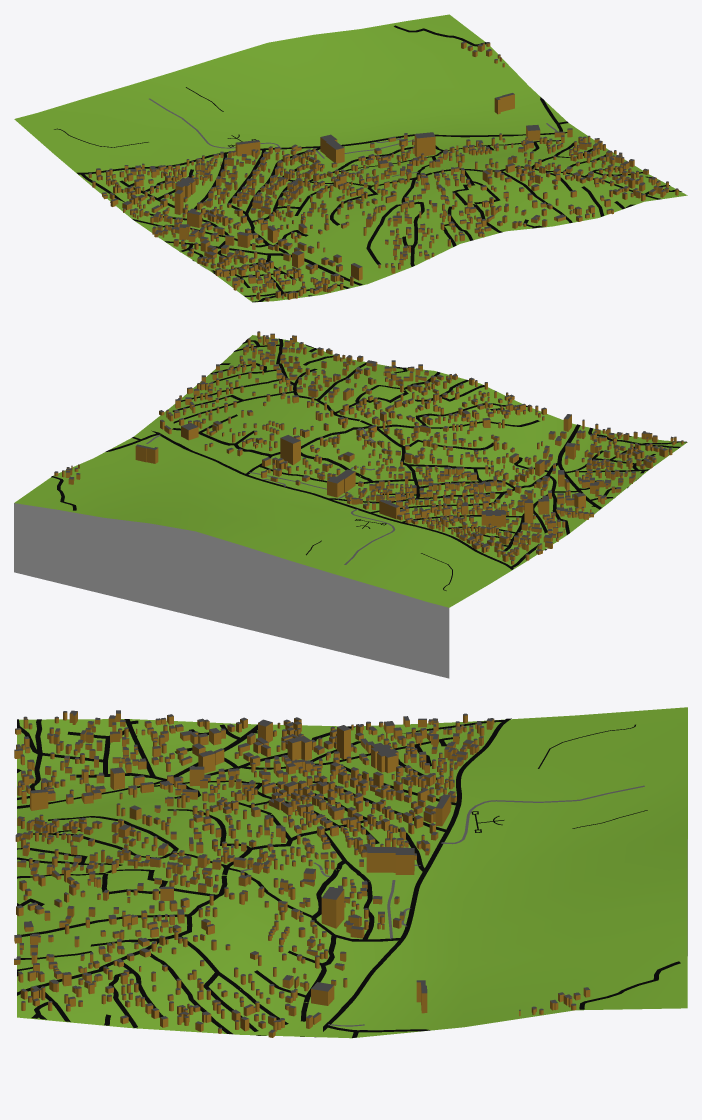
Rendered from tile_03_07.glb.
The picture shows the model from 3 angles, top to bottom: view 1: azimuth 30°, elevation 25°; view 2: azimuth 150°, elevation 25°; view 3: azimuth 270°, elevation 25°; orthographic projection. The views are drawn at different scales.
Parts seen in each view (by area): view 1: Terrain_03_07, Ub_small.osm_buildings_03_07, Ub_small.osm_roads_residential_03_07, Ub_small.osm_roads_tertiary_03_07, Ub_small.osm_roads_service_03_07; view 2: Terrain_03_07, Ub_small.osm_buildings_03_07, Ub_small.osm_roads_residential_03_07, Ub_small.osm_roads_tertiary_03_07; view 3: Terrain_03_07, Ub_small.osm_buildings_03_07, Ub_small.osm_roads_residential_03_07, Ub_small.osm_roads_tertiary_03_07, Ub_small.osm_roads_service_03_07.
Part boxes in pixels (bbox=[...]): Terrain_03_07: bbox=[14, 14, 687, 302]; Ub_small.osm_buildings_03_07: bbox=[88, 41, 678, 301]; Ub_small.osm_roads_residential_03_07: bbox=[81, 25, 681, 302]; Ub_small.osm_roads_tertiary_03_07: bbox=[77, 132, 567, 253]; Ub_small.osm_roads_service_03_07: bbox=[149, 98, 557, 176]; Terrain_03_07: bbox=[14, 335, 686, 678]; Ub_small.osm_buildings_03_07: bbox=[54, 331, 683, 564]; Ub_small.osm_roads_residential_03_07: bbox=[51, 338, 687, 567]; Ub_small.osm_roads_tertiary_03_07: bbox=[151, 430, 557, 569]; Terrain_03_07: bbox=[17, 707, 687, 1038]; Ub_small.osm_buildings_03_07: bbox=[14, 710, 590, 1037]; Ub_small.osm_roads_residential_03_07: bbox=[17, 719, 680, 1037]; Ub_small.osm_roads_tertiary_03_07: bbox=[154, 718, 511, 1037]; Ub_small.osm_roads_service_03_07: bbox=[240, 785, 644, 1026].
Bounding box in the file's own units: 990 × 183 × 932.
